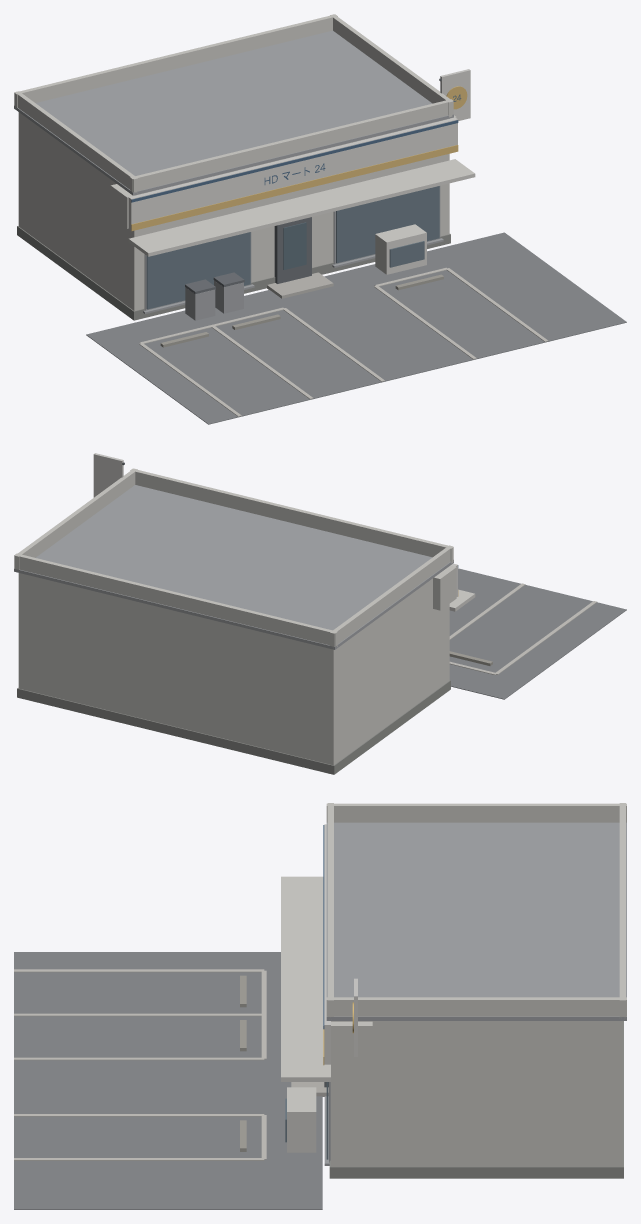
File: shop_conbini.glb
3 renders of one model, top to bottom at view 1: azimuth 30°, elevation 25°; view 2: azimuth 150°, elevation 25°; view 3: azimuth 270°, elevation 25°, orthographic. The views are drawn at different scales.
Visible parts, largest first — view 1: Static, Sign, Open24; view 2: Static, Sign; view 3: Static, Sign.
Boxes of the visible parts, left/top/right/bottom form: Static: left=14, top=14, right=626, bottom=424; Sign: left=128, top=69, right=470, bottom=231; Open24: left=146, top=186, right=439, bottom=309; Static: left=14, top=462, right=626, bottom=774; Sign: left=93, top=453, right=458, bottom=596; Static: left=14, top=803, right=626, bottom=1209; Sign: left=323, top=824, right=357, bottom=1065.
Bounding box in the file's own units: 14.6 × 5.3 × 14.7.
